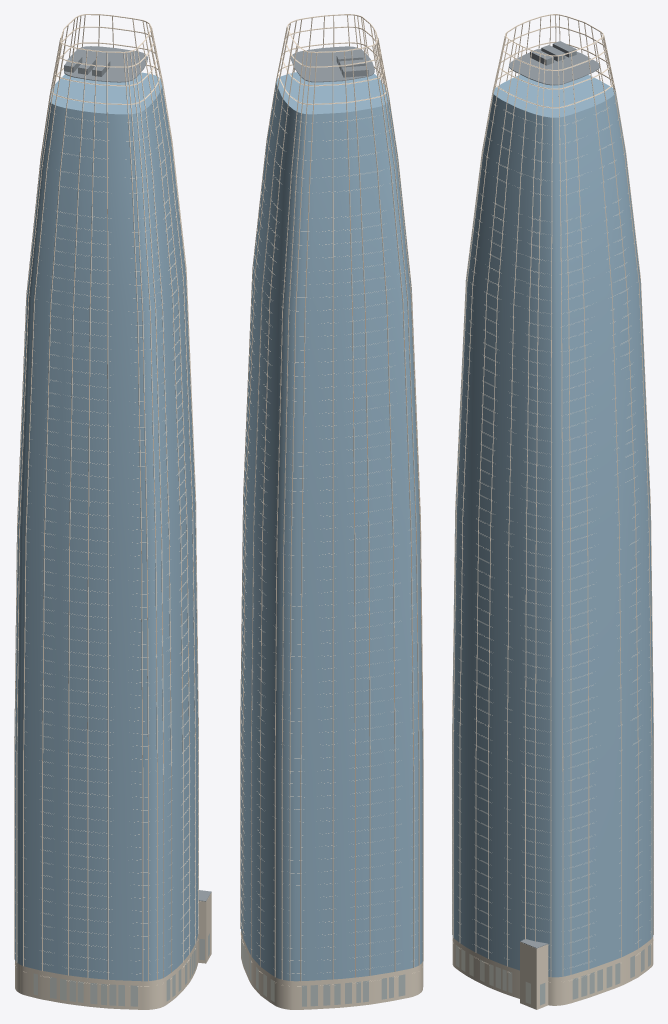
Rendered from detail.glb.
The picture shows the model from 3 angles, left to right: view 1: azimuth 30°, elevation 25°; view 2: azimuth 150°, elevation 25°; view 3: azimuth 270°, elevation 25°; orthographic projection.
Visible parts, largest first — view 1: glass, trim, stone, roof, window; view 2: glass, trim, stone, roof, window; view 3: glass, trim, stone, roof, window.
Boxes of the visible parts, x1,y1,x2,y2 form: glass: [15, 72, 198, 981]; trim: [14, 14, 198, 986]; stone: [15, 892, 211, 1009]; roof: [64, 46, 211, 901]; window: [33, 933, 209, 1006]; glass: [241, 72, 422, 981]; trim: [240, 14, 423, 986]; stone: [241, 930, 423, 1009]; roof: [290, 46, 374, 82]; window: [241, 936, 405, 1006]; glass: [452, 74, 653, 977]; trim: [452, 14, 653, 982]; stone: [452, 936, 653, 1009]; roof: [509, 41, 599, 948]; window: [455, 944, 650, 1005].
Size of the model in its own units: 67.26 by 326 by 64.29.
